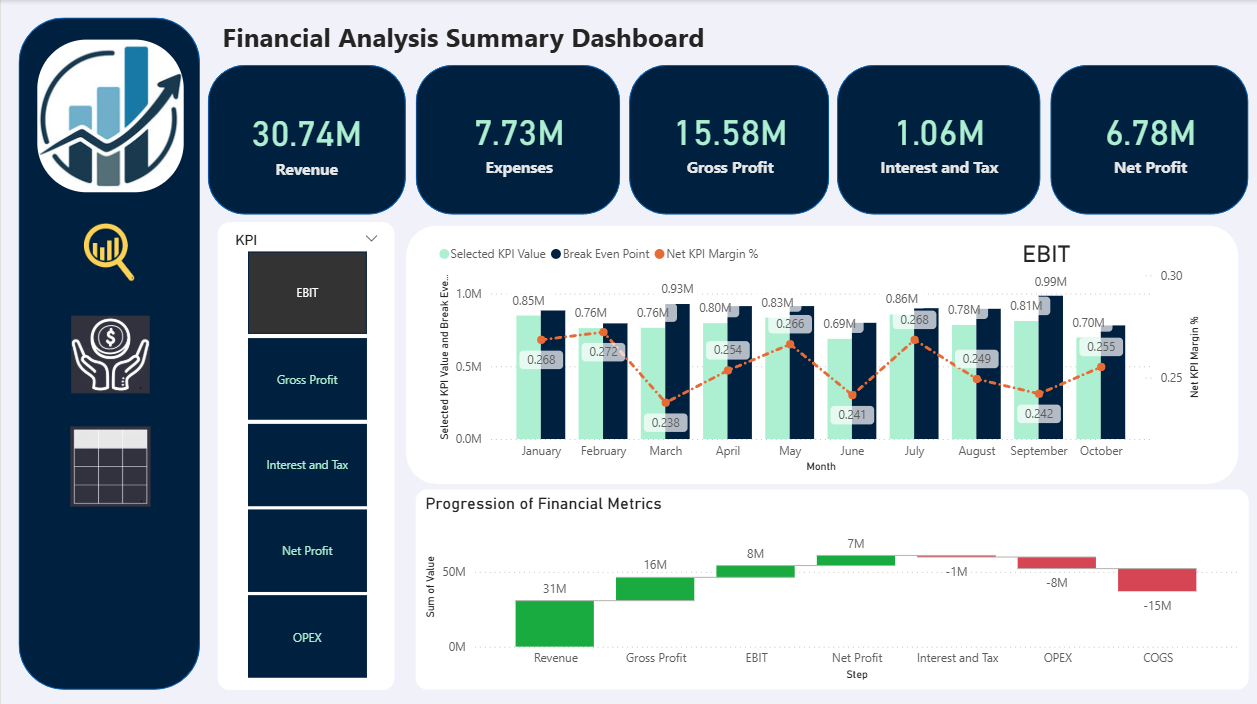

The dashboard page shown, as its layout file describes it:
{"tool":"powerbi","page":{"name":"Financial Summary","canvas":[1280,720],"ordinal":0},"visuals":[{"type":"textbox","box":[220.7,13.4,520.9,52.6],"z":0},{"type":"shape","box":[210.6,66.1,201.6,152.3],"z":1000},{"type":"card","fields":{"Values":["Sum(financial_kpis_with_business_line_300_rows.Revenue)"]},"box":[220.7,97.5,180.3,90.7],"z":2000},{"type":"shape","box":[422.3,66.1,208.3,152.3],"z":3000},{"type":"card","fields":{"Values":["Sum(financial_kpis_with_business_line_300_rows.OPEX)"]},"box":[440.2,96.3,173.6,90.7],"z":4000},{"type":"shape","box":[639.6,66.1,203.9,152.3],"z":5000},{"type":"card","fields":{"Values":["Sum(financial_kpis_with_business_line_300_rows.Gross Profit)"]},"box":[658.6,96.3,166.9,90.7],"z":6000},{"type":"shape","box":[851.3,66.1,207.2,152.3],"z":7000},{"type":"shape","box":[1068.6,66.1,201.6,152.3],"z":8000},{"type":"card","fields":{"Values":["Sum(financial_kpis_with_business_line_300_rows.Interest and Tax)"]},"box":[871.5,96.3,166.9,90.7],"z":9000},{"type":"card","fields":{"Values":["Sum(financial_kpis_with_business_line_300_rows.Net Profit)"]},"box":[1086.5,96.3,166.9,90.7],"z":10000},{"type":"shape","box":[412.2,229.6,847.9,263.2],"z":11000},{"type":"lineClusteredColumnComboChart","fields":{"Category":["financial-data.Date.Variation.Date Hierarchy.Month"],"Y":["financial-data.Selected KPI Value","financial-data.Break Even Point"],"Y2":["financial-data.Net KPI Margin %"]},"box":[440.2,238.6,785.2,247.5],"z":12000},{"type":"slicer","fields":{"Values":["KPI Selector.KPI"]},"box":[220.7,226.3,180.3,476.1],"z":13000},{"type":"card","fields":{"Values":["Min(KPI Selector.KPI)"]},"box":[957.7,234.1,212.8,44.8],"z":14000},{"type":"waterfallChart","title":"Progression of Financial Metrics","fields":{"Category":["DynamicWaterfall.Step"],"Y":["Sum(DynamicWaterfall.Value)"]},"box":[422.3,498.5,847.9,203.9],"z":15000},{"type":"shape","box":[17.9,17.9,184.8,684.4],"z":16000},{"type":"image","box":[37,40.3,149,155.7],"z":17000},{"type":"image","box":[70.6,226.3,79.5,60.5],"z":18000},{"type":"image","box":[70.6,321.5,81.8,79.5],"z":19000},{"type":"image","box":[70.6,432.4,81.8,85.1],"z":19001}]}

Visuals, with their boxes in screenshot pixels (x1, y1, x2, y2), scaled from the page's 1280x720 canvas onto the 1257x704 screenshot:
textbox: bbox=(217, 13, 728, 65)
shape: bbox=(207, 65, 405, 214)
card - Sum(financial_kpis_with_business_line_300_rows.Revenue): bbox=(217, 95, 394, 184)
shape: bbox=(415, 65, 619, 214)
card - Sum(financial_kpis_with_business_line_300_rows.OPEX): bbox=(432, 94, 603, 183)
shape: bbox=(628, 65, 828, 214)
card - Sum(financial_kpis_with_business_line_300_rows.Gross Profit): bbox=(647, 94, 811, 183)
shape: bbox=(836, 65, 1039, 214)
shape: bbox=(1049, 65, 1247, 214)
card - Sum(financial_kpis_with_business_line_300_rows.Interest and Tax): bbox=(856, 94, 1020, 183)
card - Sum(financial_kpis_with_business_line_300_rows.Net Profit): bbox=(1067, 94, 1231, 183)
shape: bbox=(405, 224, 1237, 482)
lineClusteredColumnComboChart - financial-data.Date.Variation.Date Hierarchy.Month x financial-data.Selected KPI Value: bbox=(432, 233, 1203, 475)
slicer - KPI Selector.KPI: bbox=(217, 221, 394, 687)
card - Min(KPI Selector.KPI): bbox=(940, 229, 1149, 273)
"Progression of Financial Metrics" waterfallChart: bbox=(415, 487, 1247, 687)
shape: bbox=(18, 18, 199, 687)
image: bbox=(36, 39, 183, 192)
image: bbox=(69, 221, 147, 280)
image: bbox=(69, 314, 150, 392)
image: bbox=(69, 423, 150, 506)
